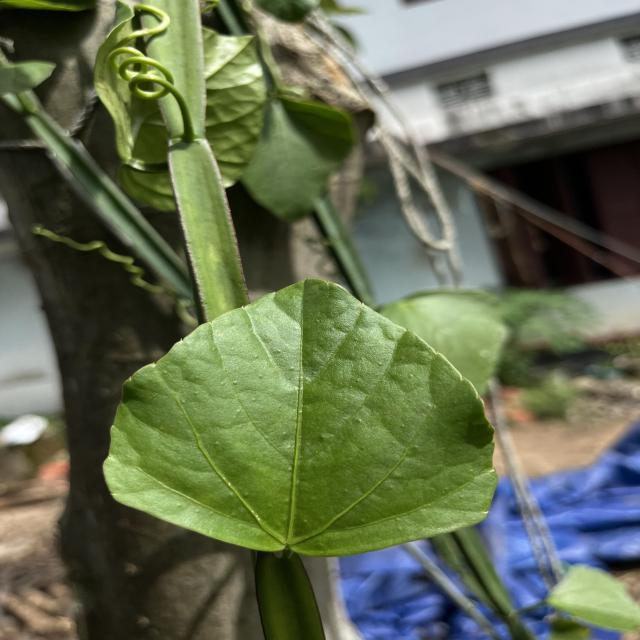Cissus quadrangularis: (96, 275, 504, 561)
